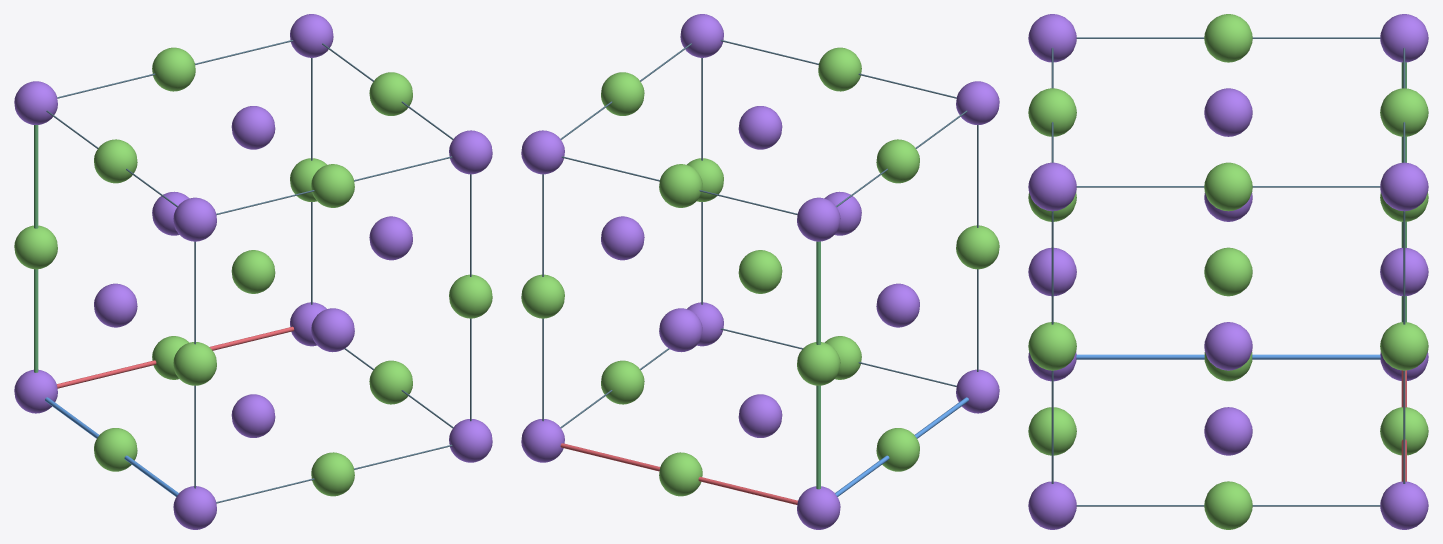
Rendered from chat-villiaumite.glb.
The picture shows the model from 3 angles, left to right: view 1: azimuth 30°, elevation 25°; view 2: azimuth 150°, elevation 25°; view 3: azimuth 270°, elevation 25°; orthographic projection. The views are drawn at different scales.
Visible parts, largest first — view 1: Na · Na · 1 (×14), F · F · 1 (×13), Ô mạng và các trục a, b, c; view 2: Na · Na · 1 (×14), F · F · 1 (×13), Ô mạng và các trục a, b, c; view 3: Na · Na · 1 (×14), F · F · 1 (×13), Ô mạng và các trục a, b, c.
Part boxes in pixels (bbox=[...]): Na · Na · 1 (×14): bbox=[14, 14, 492, 529]; F · F · 1 (×13): bbox=[14, 47, 492, 496]; Ô mạng và các trục a, b, c: bbox=[34, 40, 471, 503]; Na · Na · 1 (×14): bbox=[521, 14, 999, 529]; F · F · 1 (×13): bbox=[521, 47, 999, 496]; Ô mạng và các trục a, b, c: bbox=[542, 40, 978, 504]; Na · Na · 1 (×14): bbox=[1028, 14, 1428, 529]; F · F · 1 (×13): bbox=[1028, 14, 1428, 529]; Ô mạng và các trục a, b, c: bbox=[1051, 37, 1406, 506].
Size of the model in its own units: 5.27 by 5.27 by 5.27.
